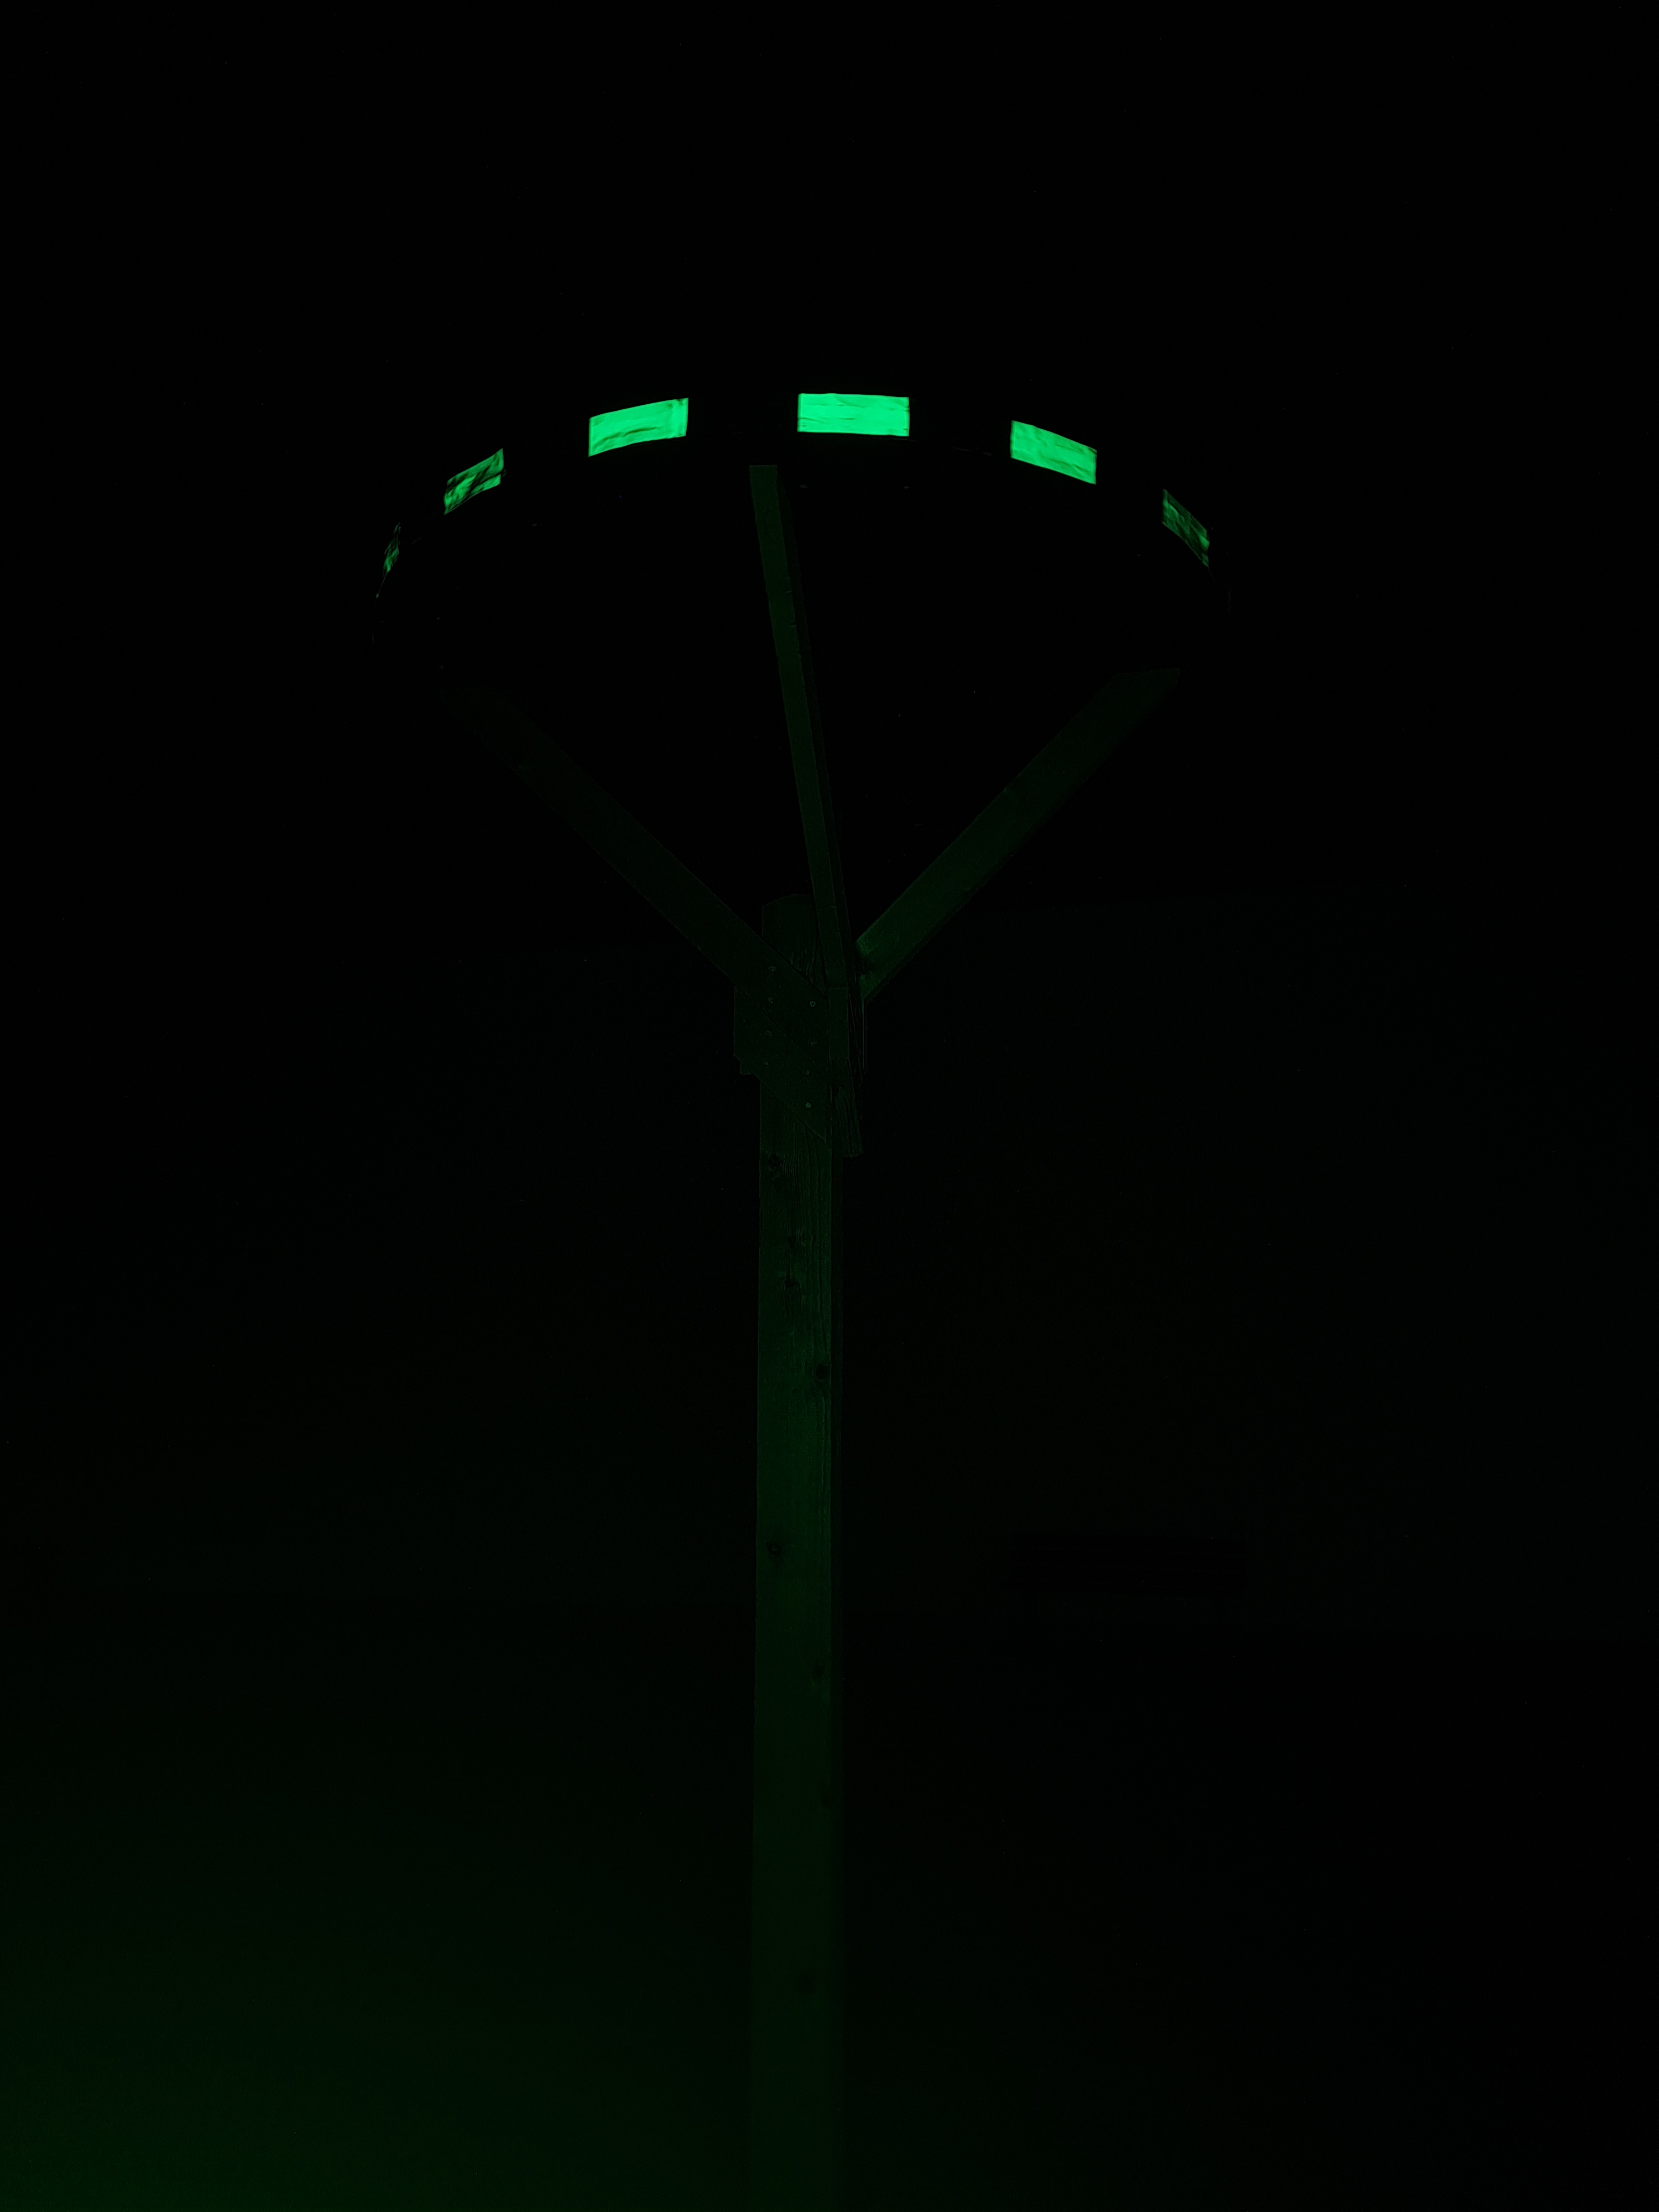hoop: (375, 383, 1215, 577)
